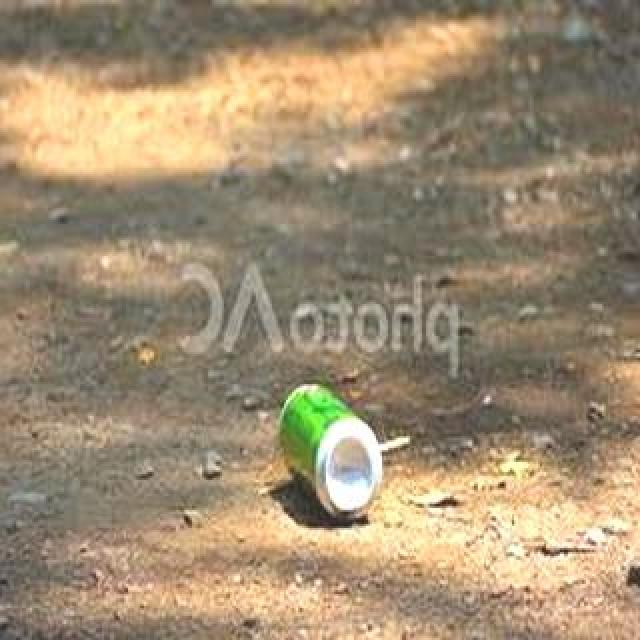Can: (263, 379, 391, 535)
